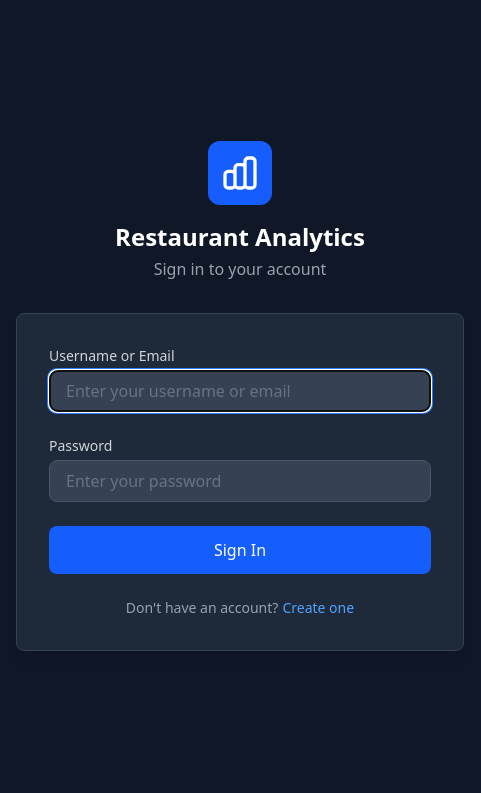
Scenario: Login Page - Registration › shows error when password is too short
Click the button "Create one": (318, 608) x1=282 y1=598 x2=354 y2=618
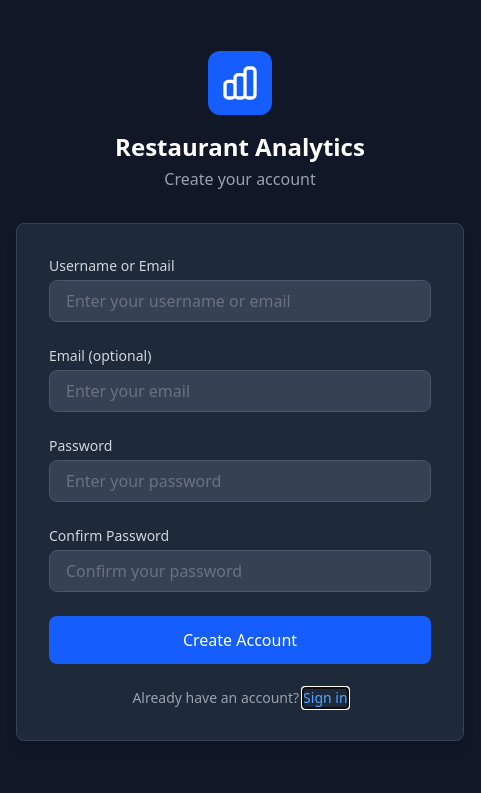
In the field labelled "Username or Email": (240, 301) x1=49 y1=280 x2=431 y2=322, type "newuser"
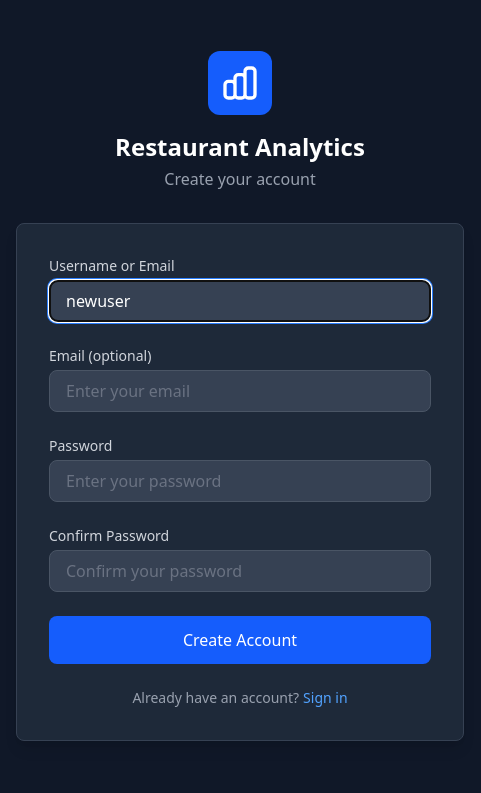
In the password field labelled "Password": (240, 481) x1=49 y1=460 x2=431 y2=502, type "123"
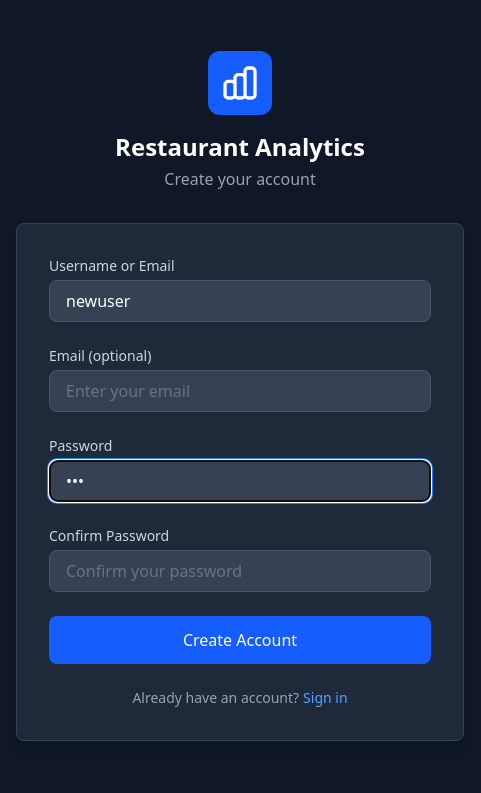
In the password field labelled "Confirm Password": (240, 571) x1=49 y1=550 x2=431 y2=592, type "123"
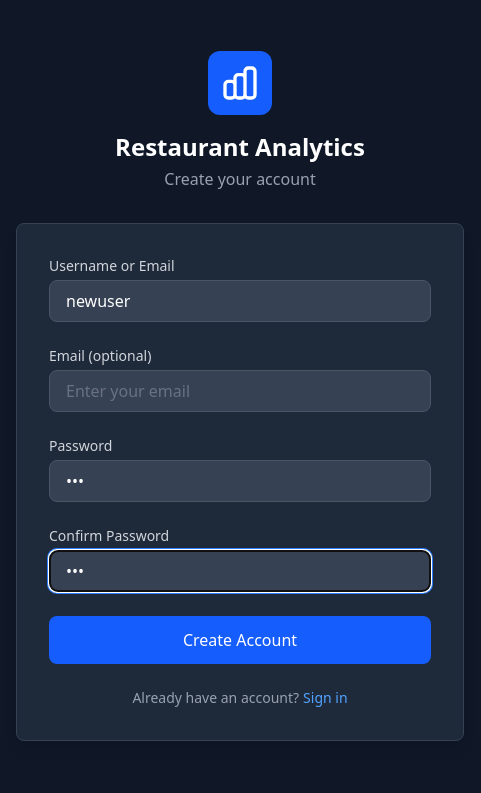
Click the button "Create Account": (240, 640) x1=49 y1=616 x2=431 y2=664
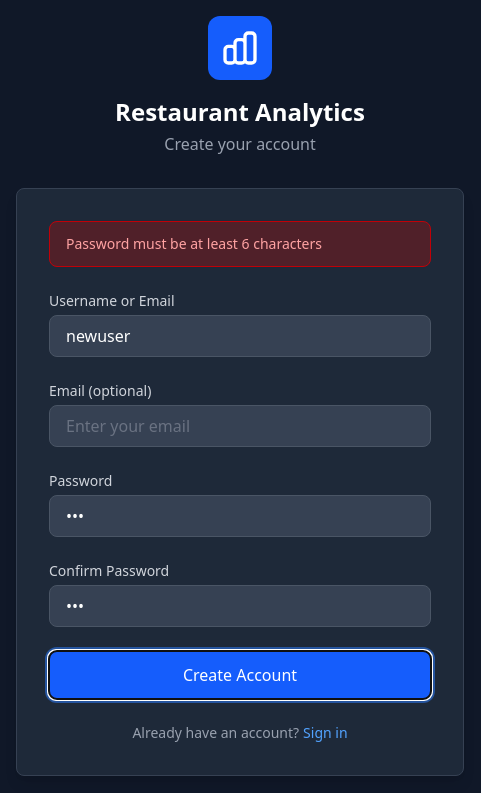
Expected: the text "Password must be at least 6 characters" is shown, x1=49 y1=221 x2=431 y2=267
